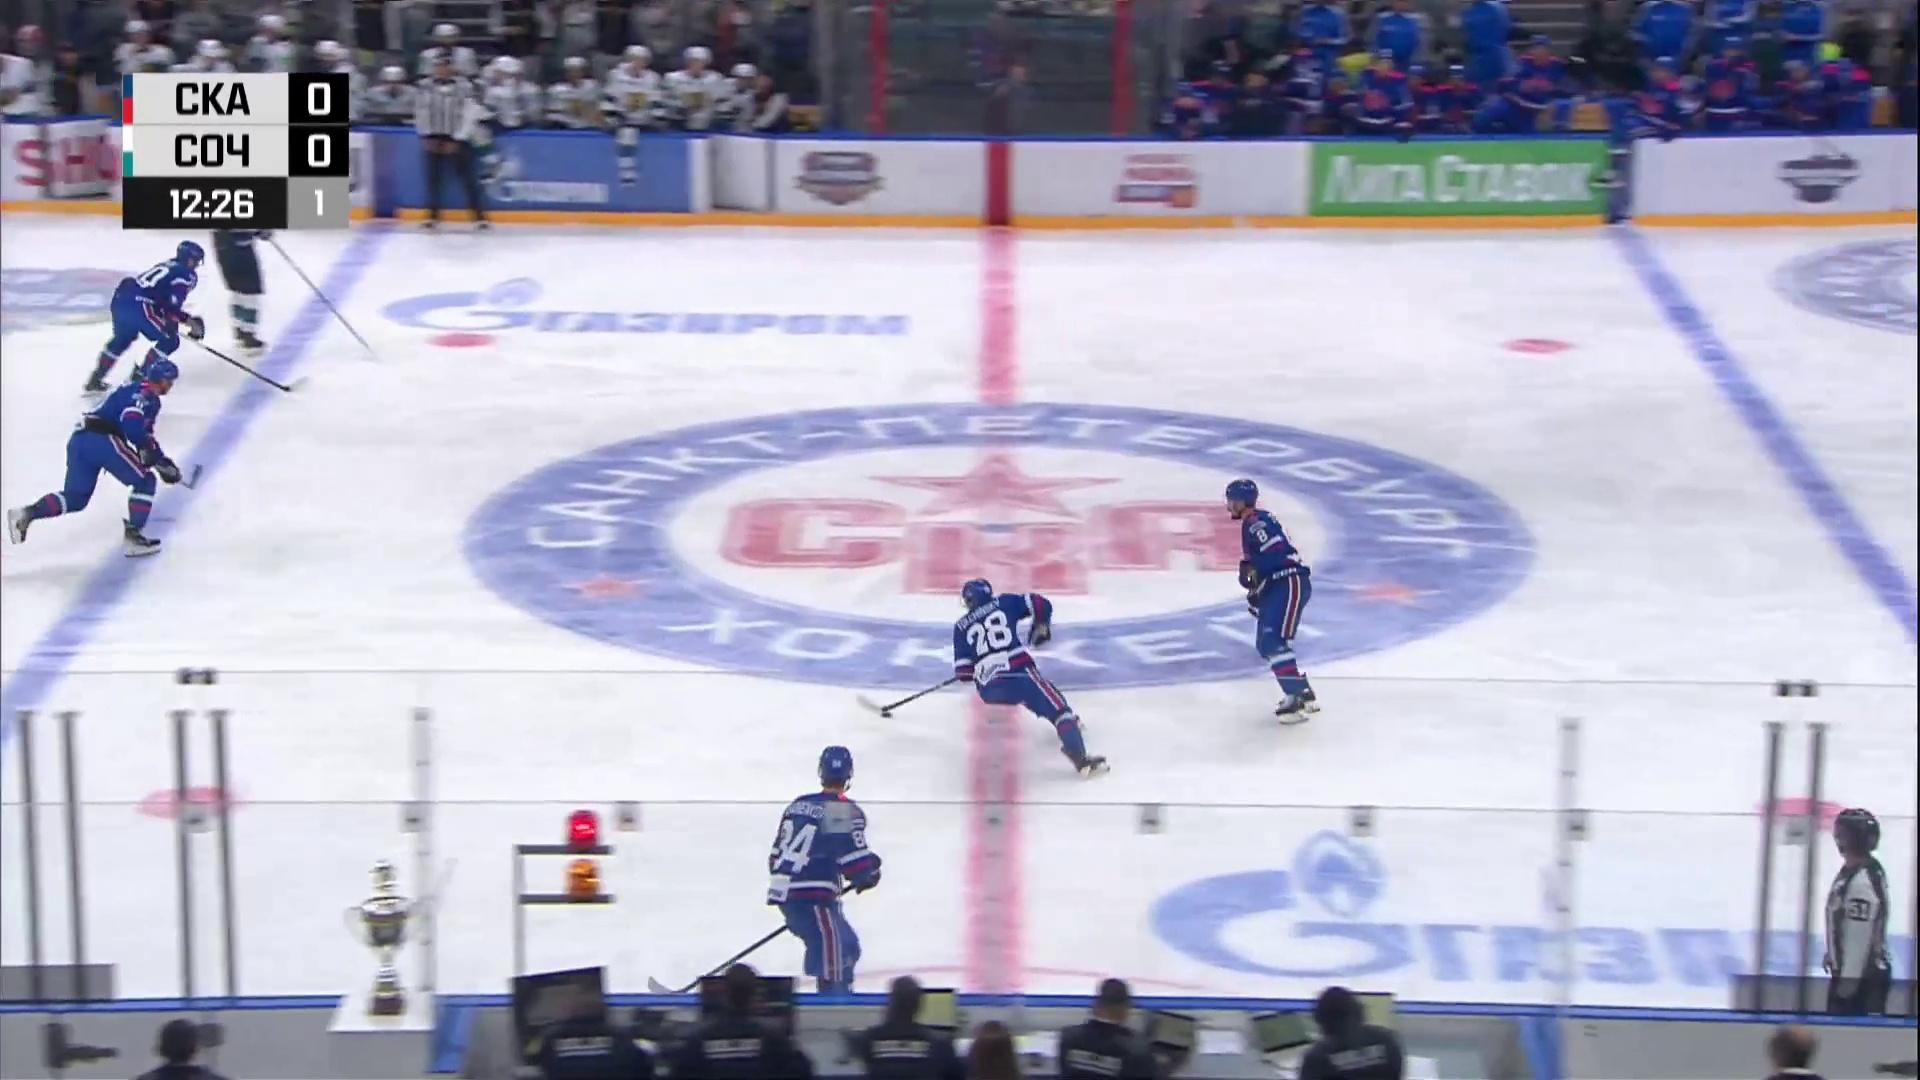ball: (880, 712, 893, 719)
